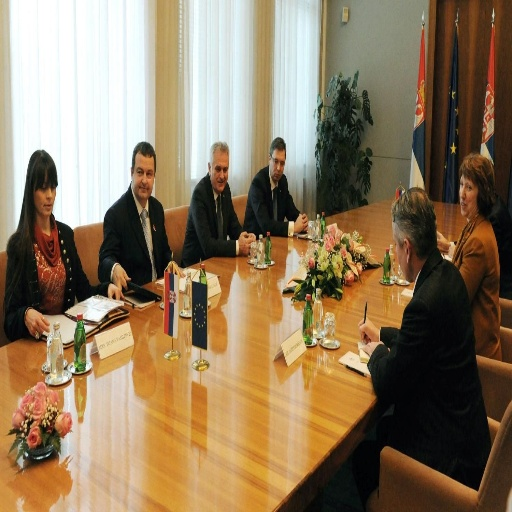hand: (15, 298, 49, 344), (110, 261, 132, 292), (359, 339, 390, 360), (357, 314, 379, 343), (236, 229, 250, 258), (166, 261, 186, 280), (106, 281, 124, 302), (436, 230, 449, 250), (294, 212, 304, 232), (302, 211, 308, 234), (247, 231, 257, 239)
